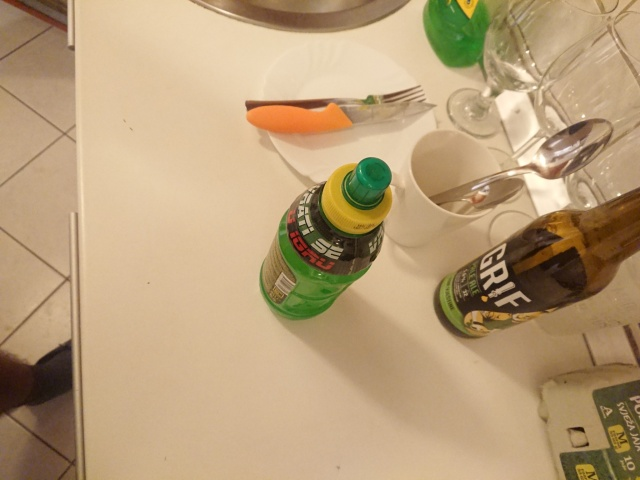Vindi Iso Sport Lemon-Grapefruit 500mL: (255, 154, 396, 324)
